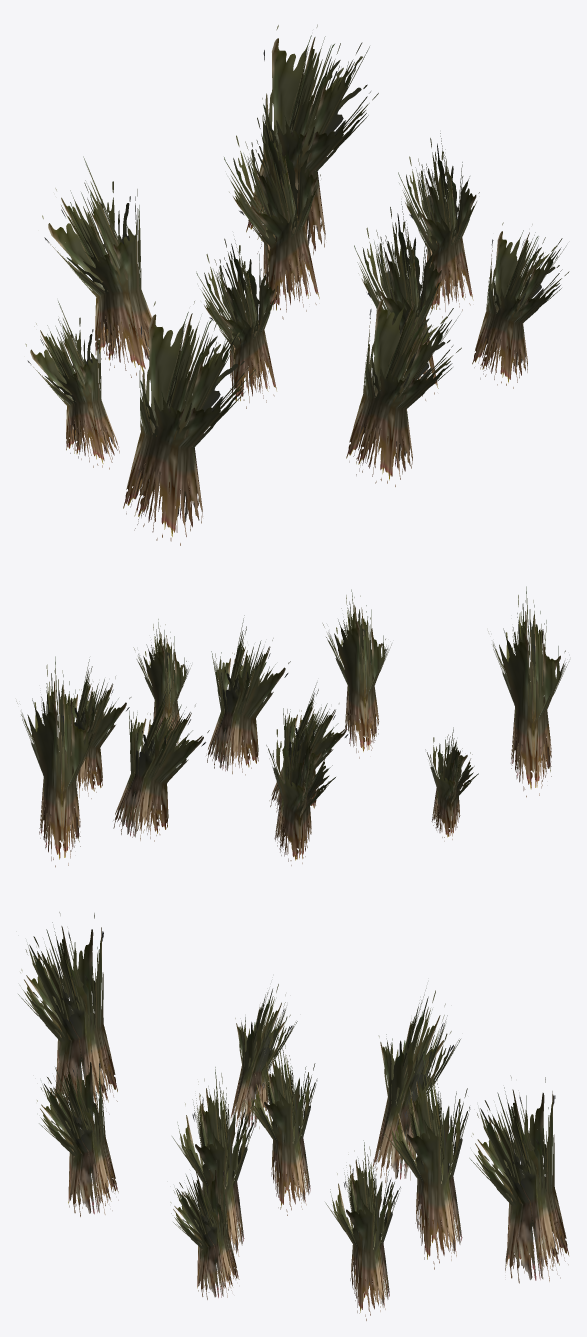
The picture shows the model from 3 angles, top to bottom: view 1: azimuth 30°, elevation 25°; view 2: azimuth 150°, elevation 25°; view 3: azimuth 270°, elevation 25°; orthographic projection. The views are drawn at different scales.
Visible parts, largest first — view 1: Tree10; view 2: Tree10; view 3: Tree10.
Part boxes in pixels (bbox=[...]): Tree10: bbox=[25, 24, 569, 545]; Tree10: bbox=[16, 586, 569, 867]; Tree10: bbox=[18, 912, 568, 1320].
Bounding box in the file's own units: 334 × 159 × 354.
